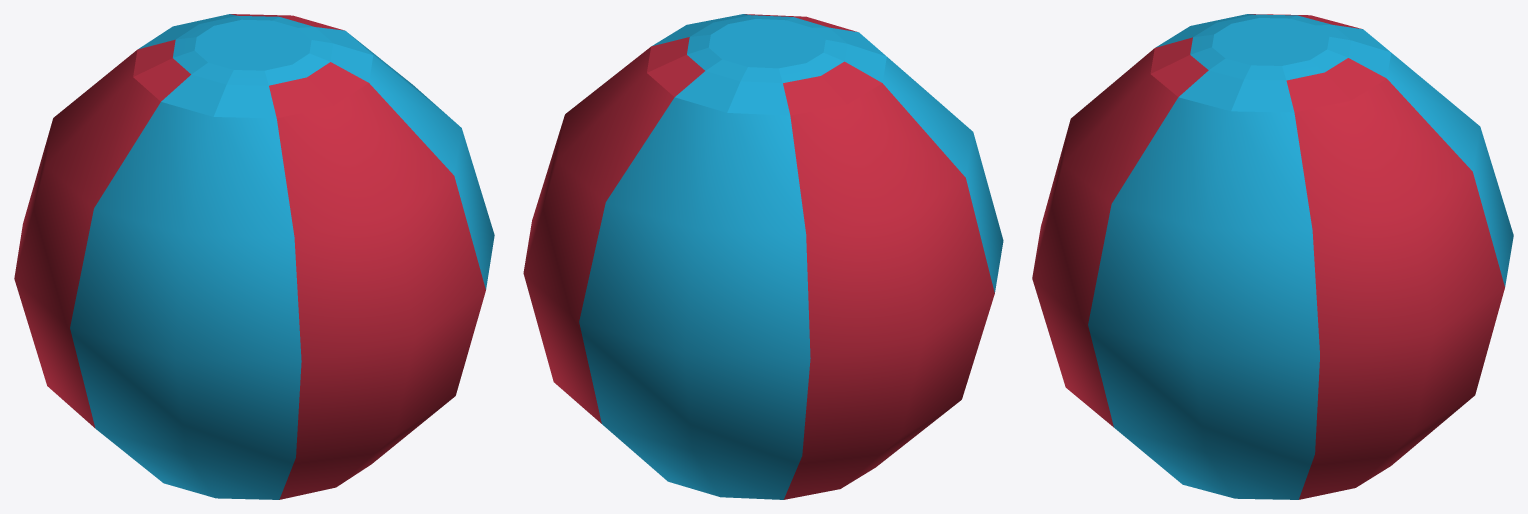
Rendered from mesh_ballon.fbx.
3 views of the same model, side by side, from view 1: azimuth 30°, elevation 25°; view 2: azimuth 150°, elevation 25°; view 3: azimuth 270°, elevation 25° (orthographic).
Visible parts, largest first — view 1: ballon; view 2: ballon; view 3: ballon.
Part boxes in pixels (bbox=[...]): ballon: bbox=[14, 14, 494, 499]; ballon: bbox=[523, 14, 1003, 499]; ballon: bbox=[1032, 14, 1513, 499].
Bounding box in the file's own units: 11.78 × 11.44 × 11.78.
